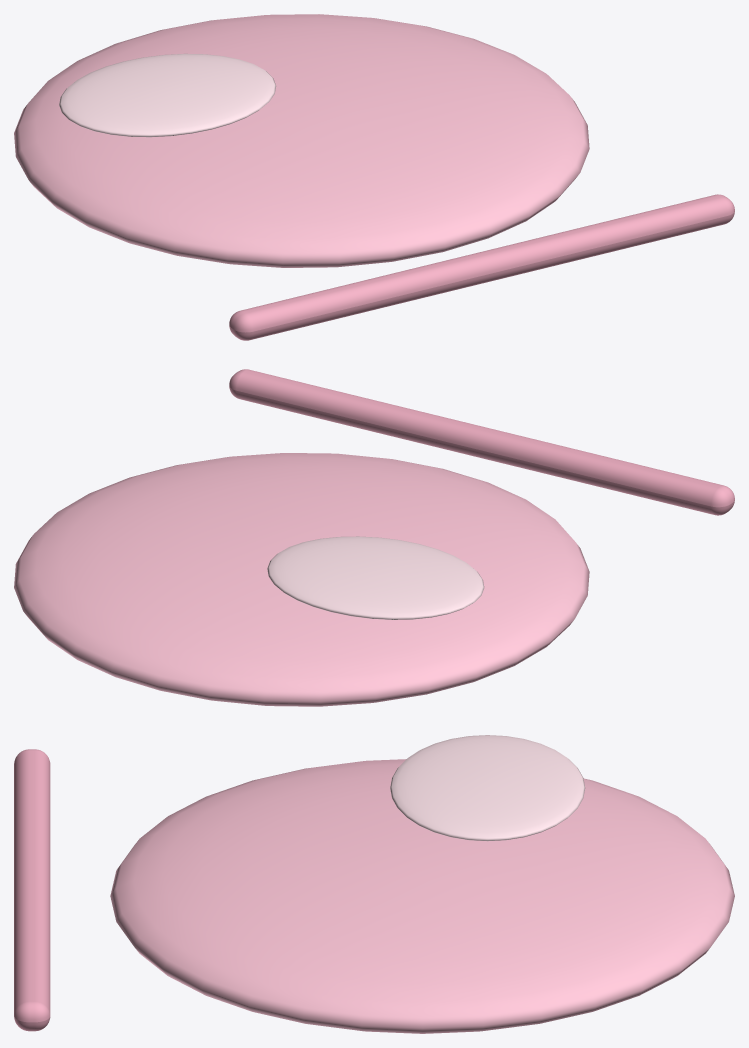
File: 目标图粉色圆坐垫.fbx
3 renders of one model, top to bottom at view 1: azimuth 30°, elevation 25°; view 2: azimuth 150°, elevation 25°; view 3: azimuth 270°, elevation 25°, orthographic. The views are drawn at different scales.
Parts seen in each view (by area): view 1: 目标图粉色圆坐垫_鼓起软垫, 目标图粉色圆坐垫_前侧柔包边, 目标图粉色圆坐垫_偏心柔光; view 2: 目标图粉色圆坐垫_鼓起软垫, 目标图粉色圆坐垫_前侧柔包边, 目标图粉色圆坐垫_偏心柔光; view 3: 目标图粉色圆坐垫_鼓起软垫, 目标图粉色圆坐垫_偏心柔光, 目标图粉色圆坐垫_前侧柔包边.
Part boxes in pixels (x1,y1,x2,y2): 目标图粉色圆坐垫_鼓起软垫: (14, 14, 589, 267); 目标图粉色圆坐垫_前侧柔包边: (229, 194, 734, 340); 目标图粉色圆坐垫_偏心柔光: (59, 53, 276, 137); 目标图粉色圆坐垫_鼓起软垫: (14, 453, 589, 706); 目标图粉色圆坐垫_前侧柔包边: (229, 369, 734, 515); 目标图粉色圆坐垫_偏心柔光: (267, 536, 484, 619); 目标图粉色圆坐垫_鼓起软垫: (110, 759, 734, 1033); 目标图粉色圆坐垫_偏心柔光: (390, 735, 585, 841); 目标图粉色圆坐垫_前侧柔包边: (14, 749, 50, 1031).
Size of the model in its own units: 48 by 8.8 by 55.4.
